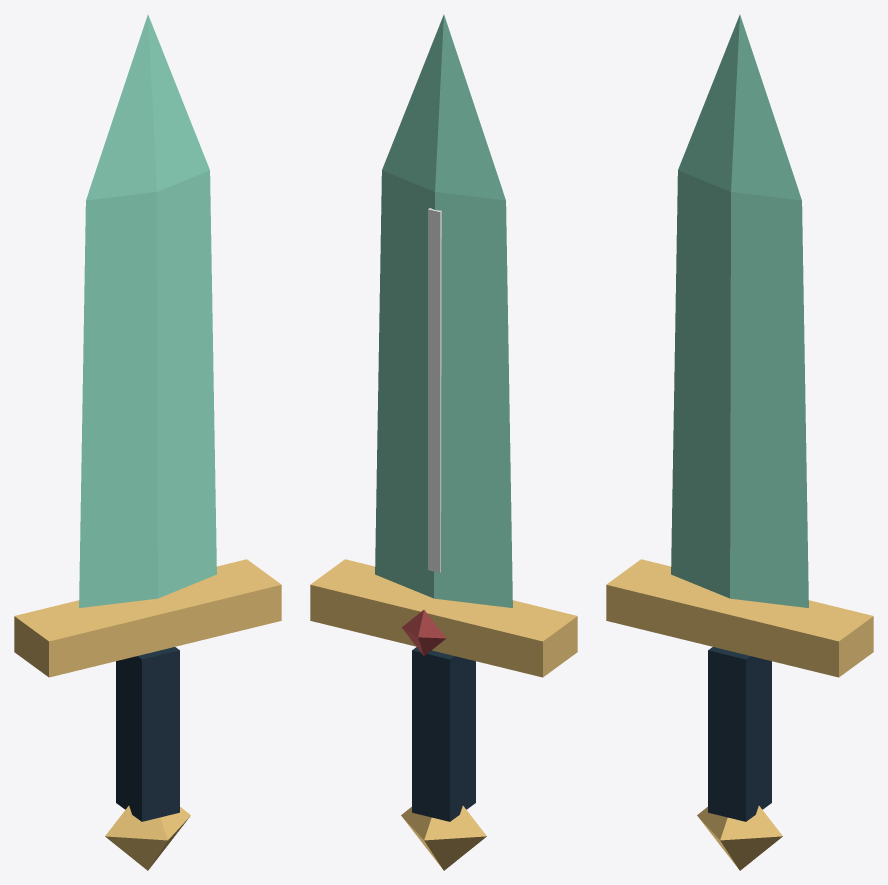
The model's file is Blade.obj.
The picture shows the model from 3 angles, left to right: view 1: azimuth 30°, elevation 25°; view 2: azimuth 150°, elevation 25°; view 3: azimuth 330°, elevation 25°; orthographic projection.
Bounding box in the file's own units: 1.35 × 4.75 × 0.46.
